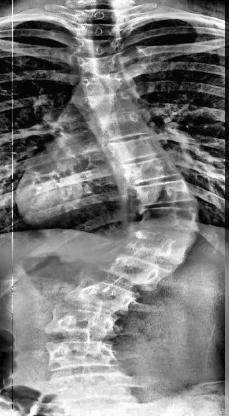Vertebrae: (123, 232, 197, 266), (42, 338, 121, 368), (45, 310, 121, 338), (133, 182, 199, 212), (135, 205, 204, 233), (65, 284, 136, 310), (98, 258, 164, 284), (94, 114, 156, 140), (74, 72, 130, 98), (74, 55, 130, 81), (123, 159, 183, 183), (70, 36, 130, 60), (107, 138, 163, 162), (82, 93, 140, 116), (70, 20, 128, 42)
